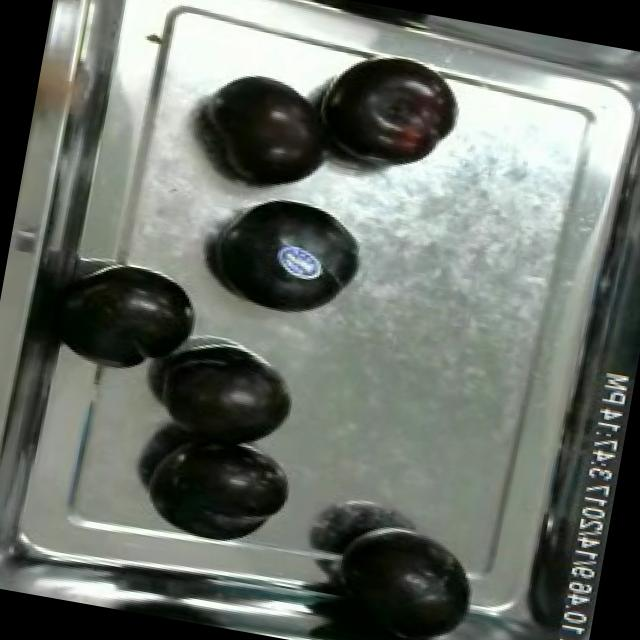Fruit: (196, 174, 378, 334), (134, 422, 302, 556), (304, 46, 466, 182), (188, 63, 341, 204), (321, 510, 486, 640), (150, 332, 304, 464), (64, 256, 209, 380)
